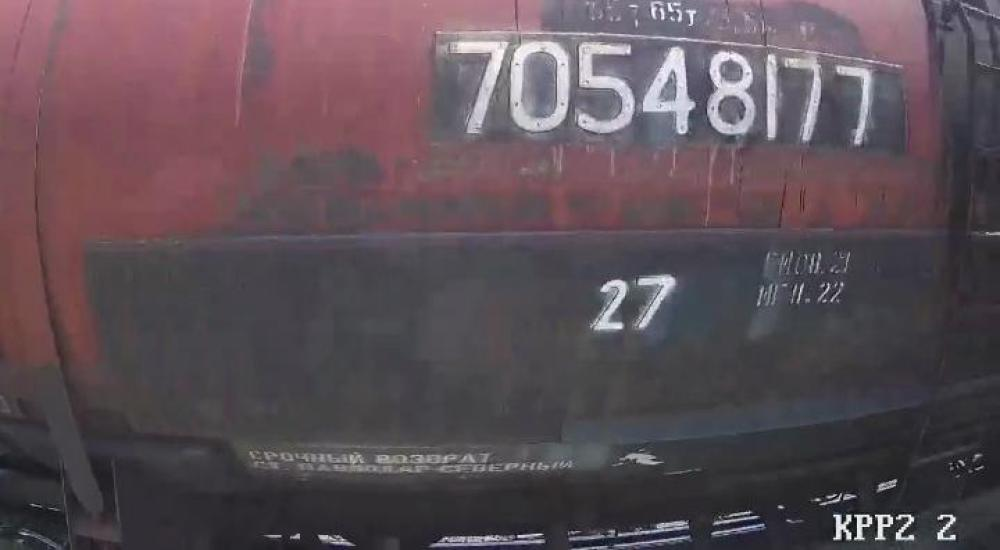Wagon-number: (440, 35, 878, 151)
